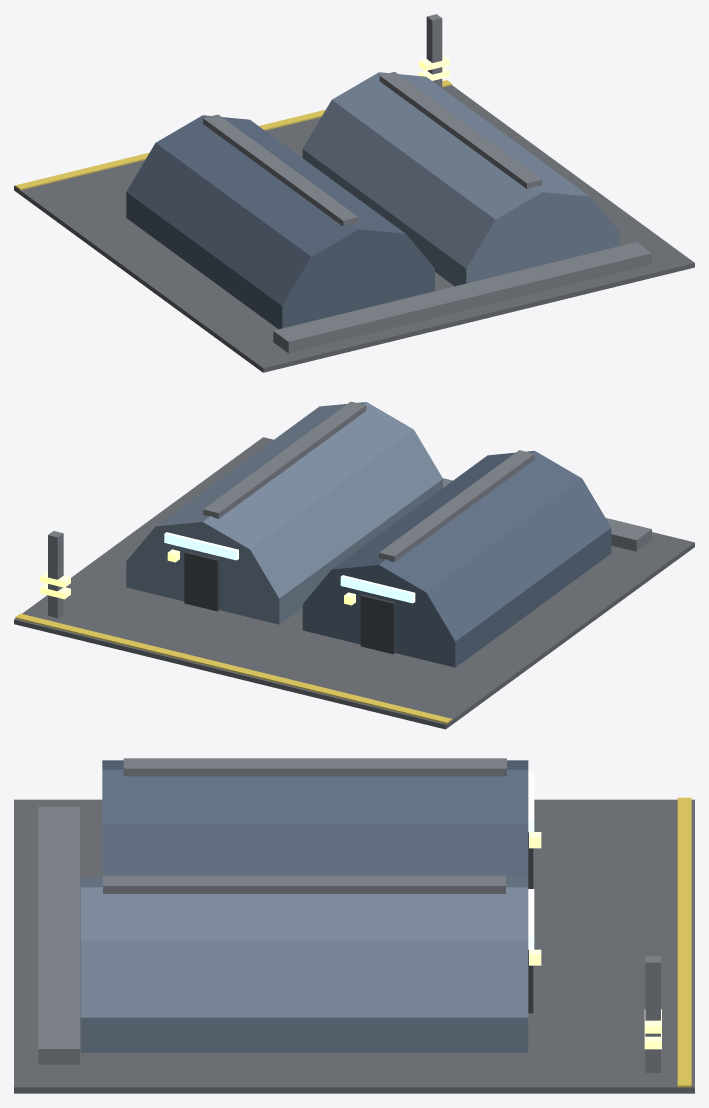
Rendered from zone_low_3_t2.glb.
The picture shows the model from 3 angles, top to bottom: view 1: azimuth 30°, elevation 25°; view 2: azimuth 150°, elevation 25°; view 3: azimuth 270°, elevation 25°; orthographic projection. The views are drawn at different scales.
Parts seen in each view (by area): view 1: zone_low_3_t2, detail; view 2: zone_low_3_t2, detail; view 3: zone_low_3_t2, detail.
Boxes of the visible parts, box(x1,y1,x2,y2) form: zone_low_3_t2: box(14, 71, 694, 372); detail: box(15, 14, 451, 190); zone_low_3_t2: box(14, 401, 694, 729); detail: box(15, 531, 451, 723); zone_low_3_t2: box(14, 758, 694, 1093); detail: box(529, 797, 691, 1087).
Bounding box in the file's own units: 19.6 × 4.05 × 19.6.
